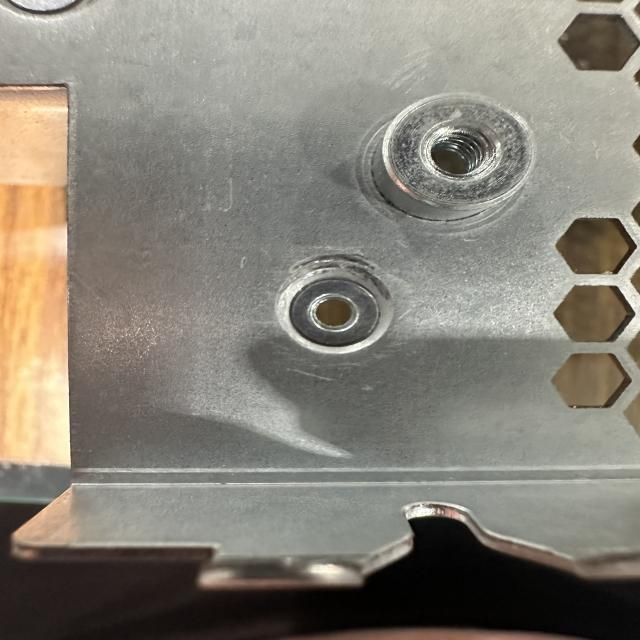Missing screw: (266, 262, 406, 361)
